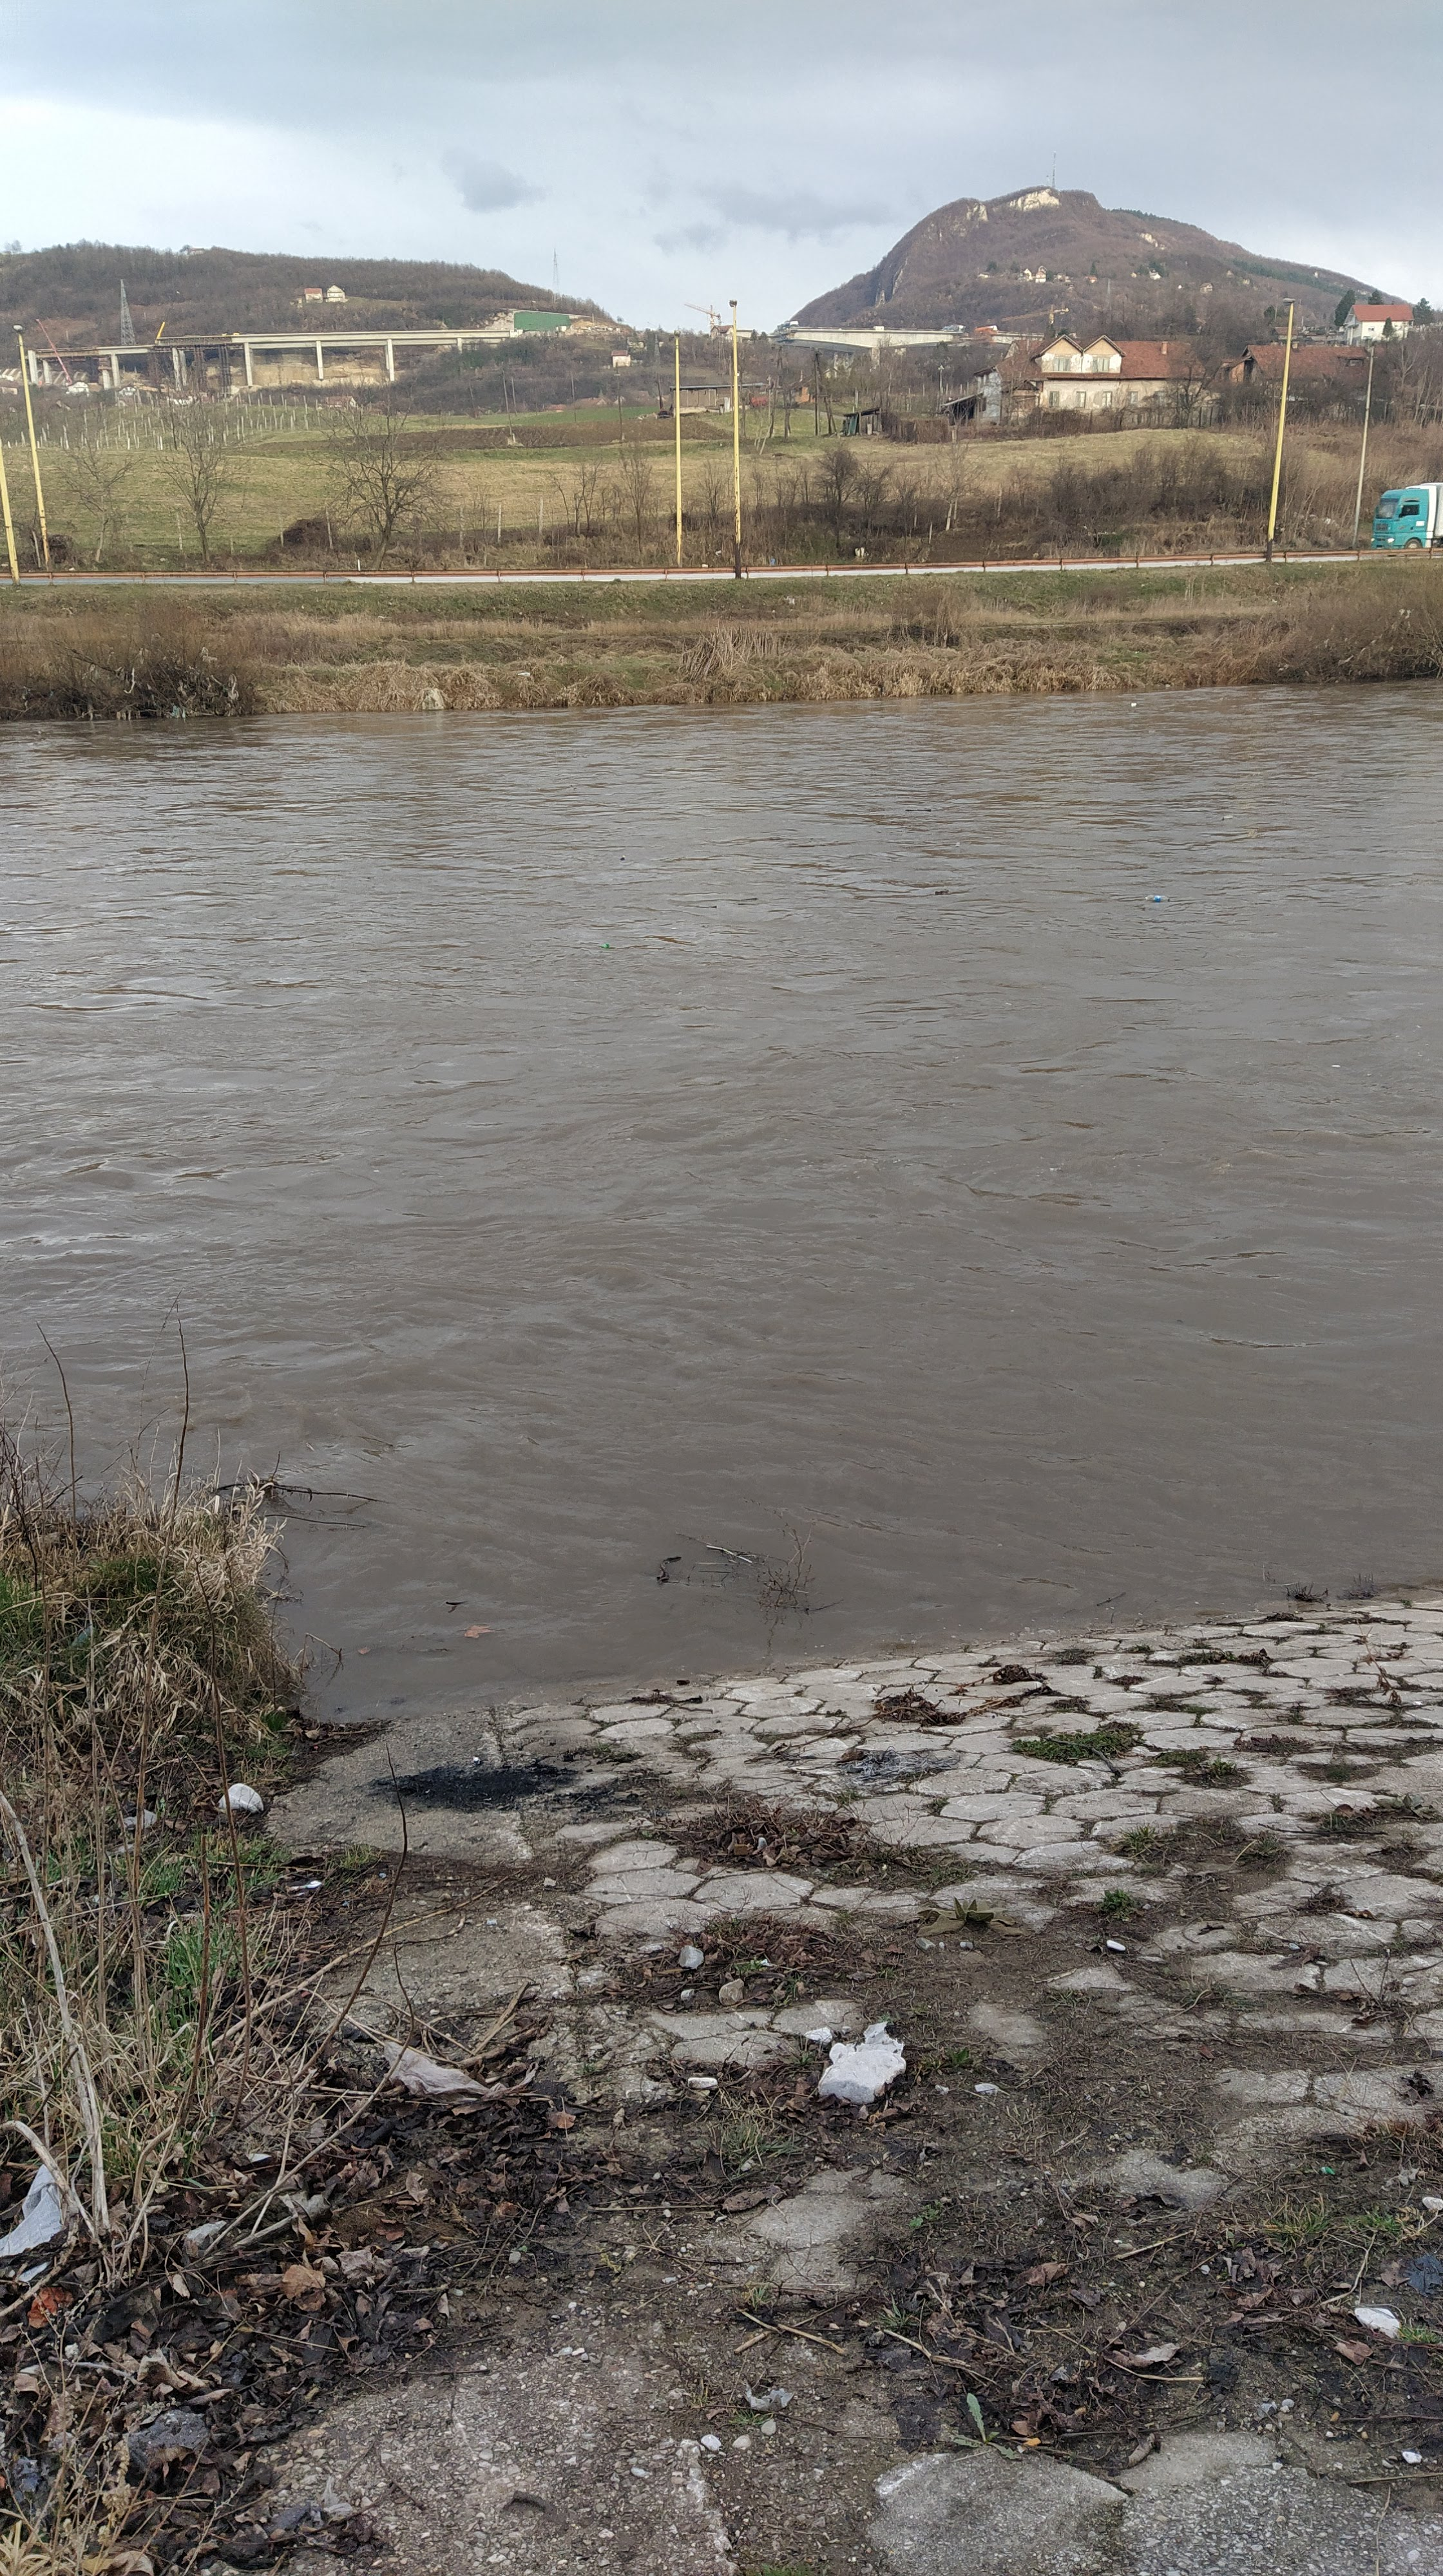Plastic Bottle: (1146, 895, 1170, 902), (1222, 814, 1232, 819), (602, 943, 609, 948), (1131, 702, 1137, 706), (956, 840, 958, 846)
